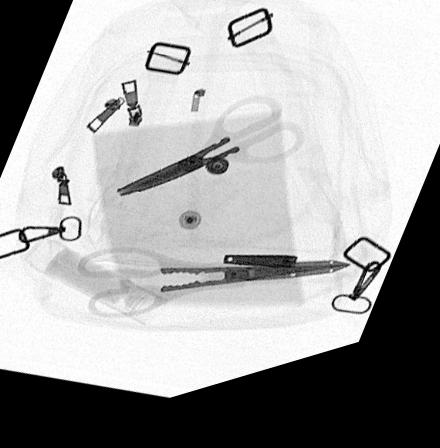Scissors: (74, 247, 357, 325), (108, 104, 311, 207)
